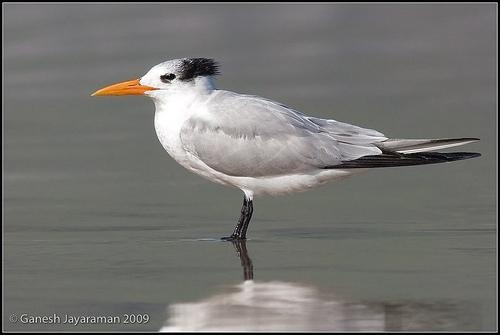bird: (86, 58, 477, 243)
